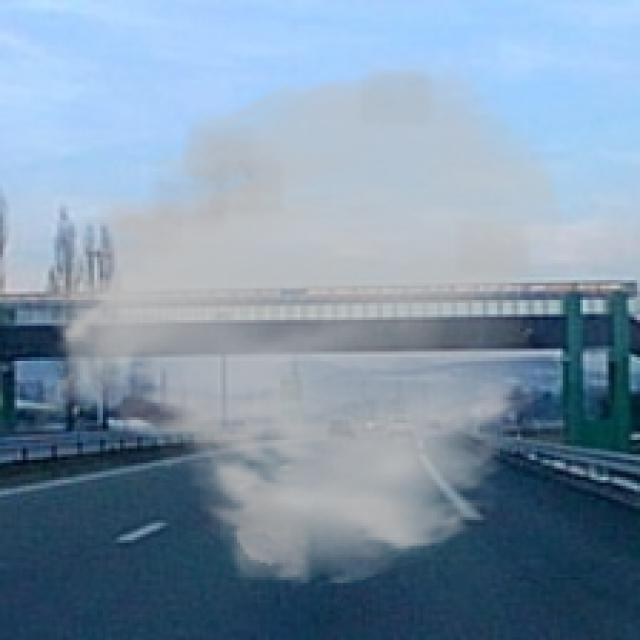smoke: (23, 54, 568, 592)
